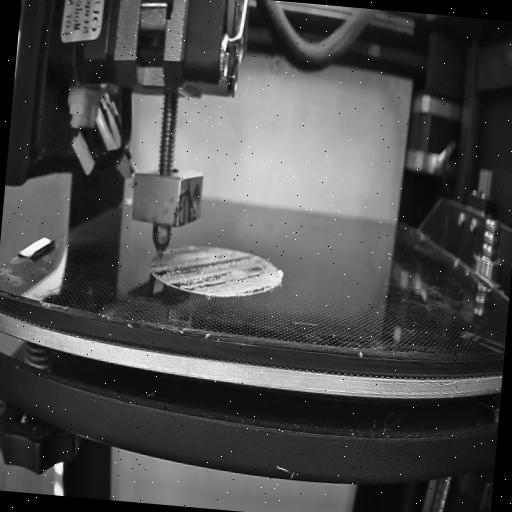under_extrusion: (151, 249, 244, 296), (241, 260, 273, 296)
